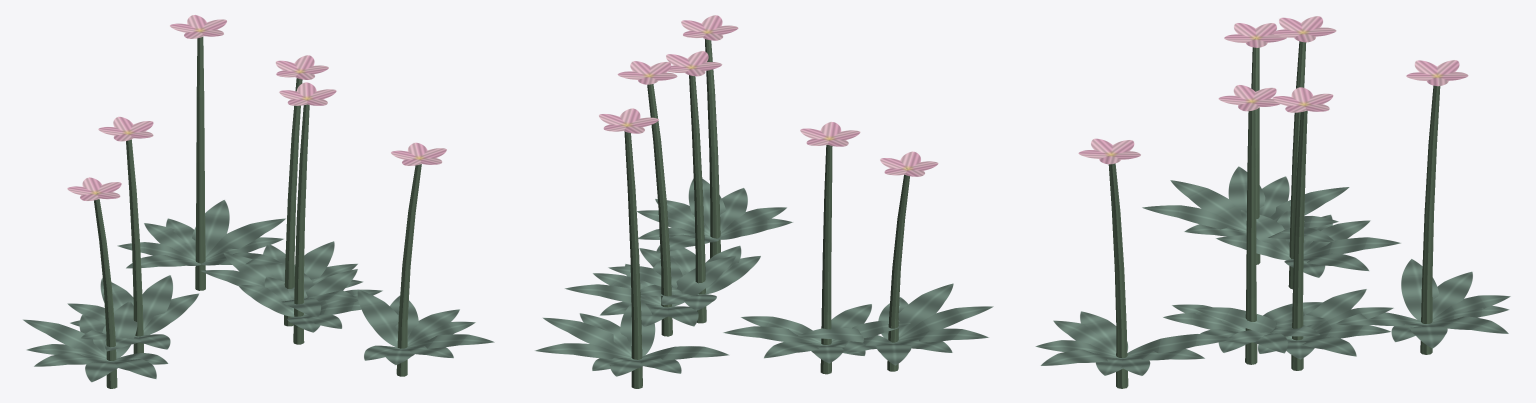
The model's file is frost_saxifrage_v02.glb.
3 views of the same model, side by side, from view 1: azimuth 30°, elevation 25°; view 2: azimuth 150°, elevation 25°; view 3: azimuth 270°, elevation 25° (orthographic). The views are drawn at different scales.
Parts seen in each view (by area): view 1: frost_saxifrage_v02; view 2: frost_saxifrage_v02; view 3: frost_saxifrage_v02.
Part boxes in pixels (x1,y1,x2,y2): frost_saxifrage_v02: [23, 15, 494, 388]; frost_saxifrage_v02: [535, 15, 993, 388]; frost_saxifrage_v02: [1035, 16, 1510, 388].
Bounding box in the file's own units: 0.1554 × 0.0984 × 0.1557.
Materials: 3 (3 with a texture image).
